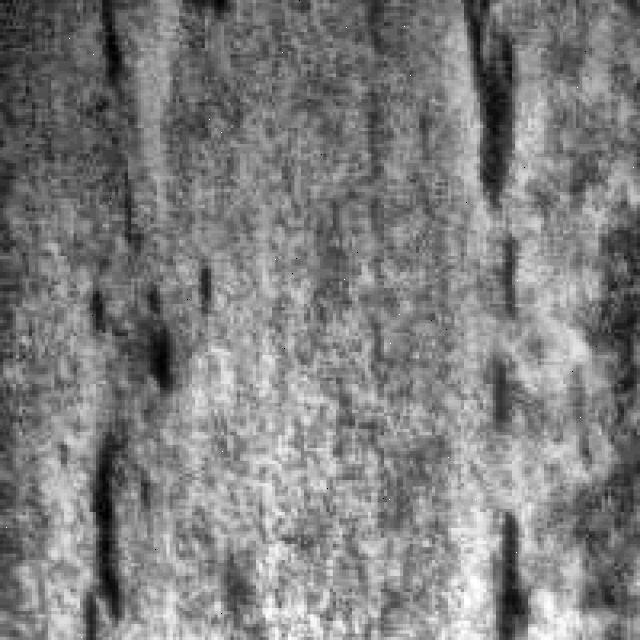Patches: (86, 255, 221, 630), (468, 0, 541, 214), (490, 227, 544, 426), (490, 480, 548, 637), (90, 0, 134, 96)
